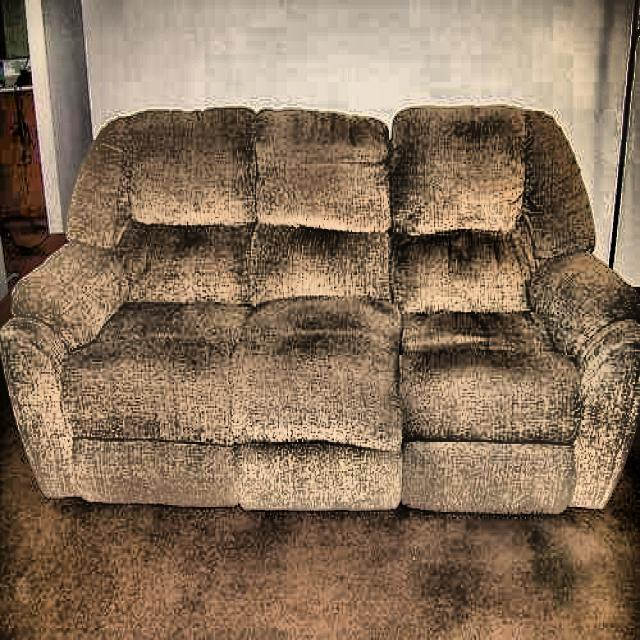sofa: (0, 108, 640, 521)
